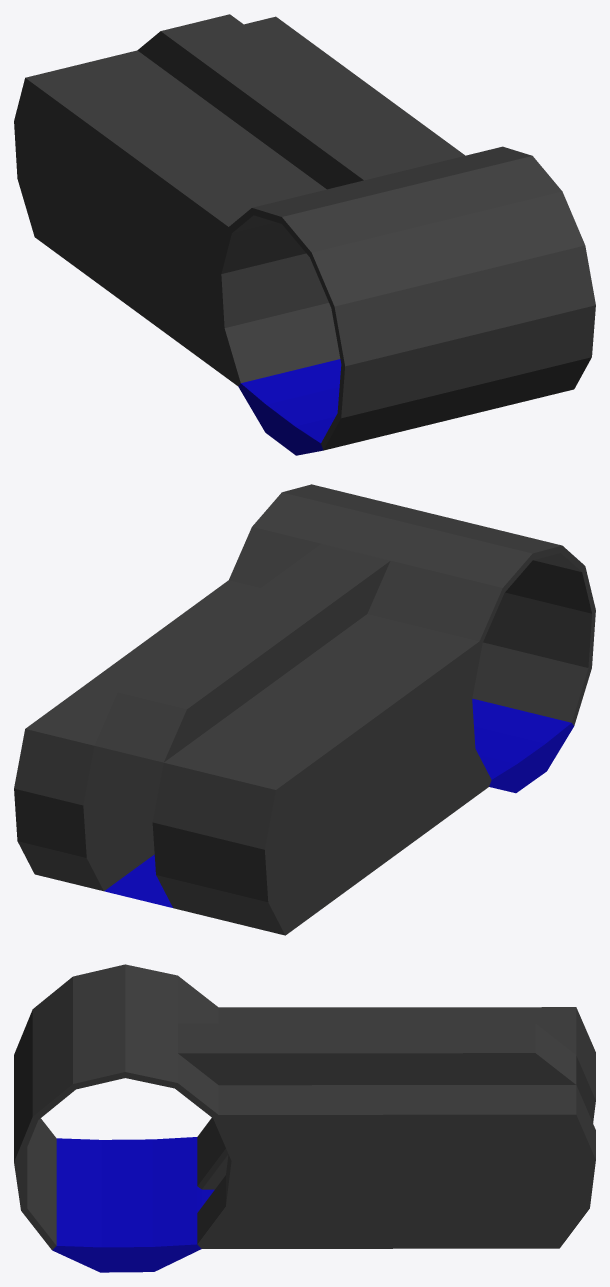
The model's file is tunnel hoek1.6.fbx.
3 views of the same model, one above another, from view 1: azimuth 30°, elevation 25°; view 2: azimuth 150°, elevation 25°; view 3: azimuth 270°, elevation 25° (orthographic). The views are drawn at different scales.
Visible parts, largest first — view 1: Cylinder; view 2: Cylinder; view 3: Cylinder.
Part boxes in pixels (box(x1,y1,x2,y2)): Cylinder: box(14, 14, 595, 455); Cylinder: box(14, 484, 595, 935); Cylinder: box(14, 964, 595, 1272).
Bounding box in the file's own units: 800 × 696 × 1830.
